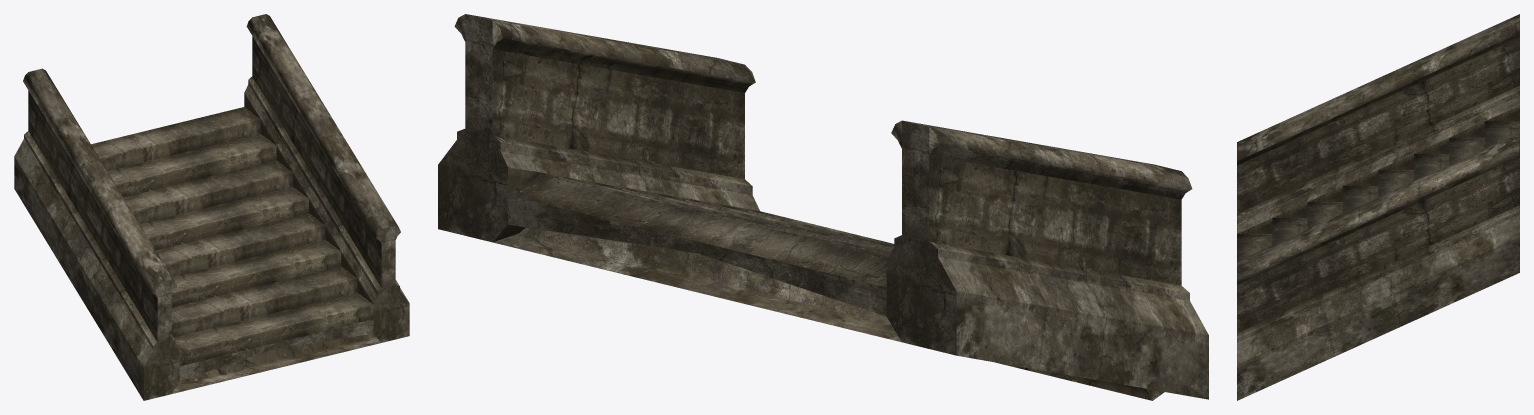
The model's file is default_worn_amfp.dae.
3 renders of one model, left to right at view 1: azimuth 30°, elevation 25°; view 2: azimuth 150°, elevation 25°; view 3: azimuth 270°, elevation 25°, orthographic. The views are drawn at different scales.
Visible parts, largest first — view 1: polySurface3; view 2: polySurface3; view 3: polySurface3.
Boxes of the visible parts, <box> form: polySurface3: <box>14,14,409,400</box>; polySurface3: <box>438,14,1208,400</box>; polySurface3: <box>1237,14,1519,400</box>.
Size of what is drawn, in the model's own units: 4.75 by 3.94 by 4.
